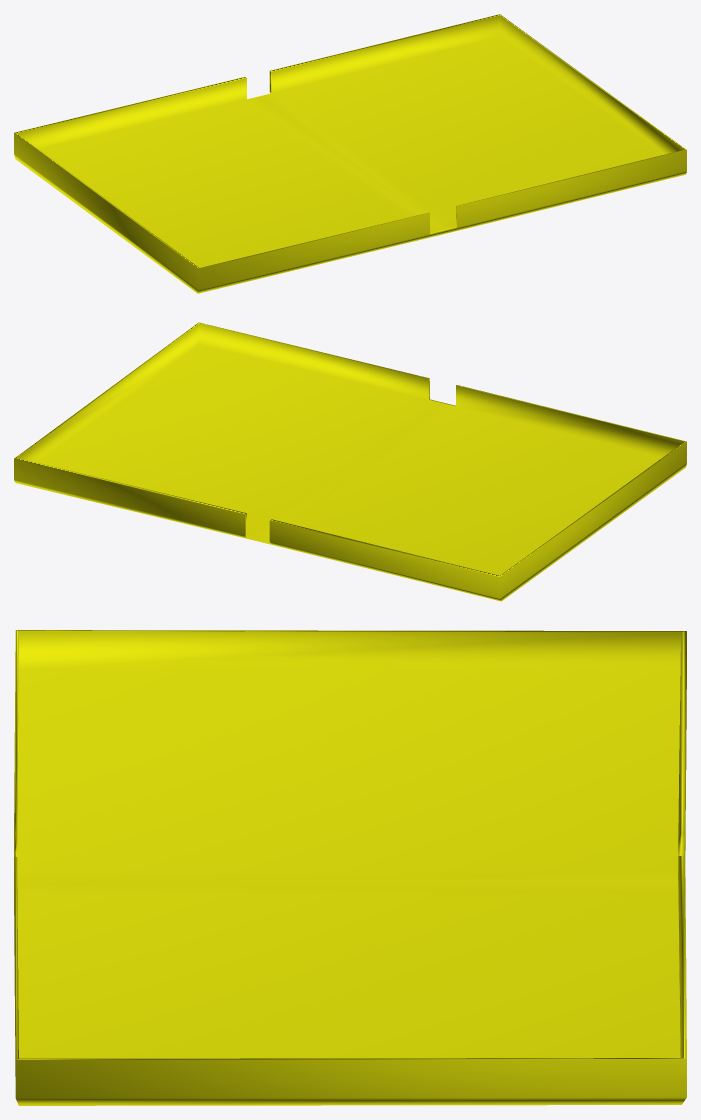
The model's file is mdl_Corredor_Soporte_grande.fbx.
3 views of the same model, one above another, from view 1: azimuth 30°, elevation 25°; view 2: azimuth 150°, elevation 25°; view 3: azimuth 270°, elevation 25° (orthographic). The views are drawn at different scales.
Visible parts, largest first — view 1: mdl_Corredor_Soporte_grande; view 2: mdl_Corredor_Soporte_grande; view 3: mdl_Corredor_Soporte_grande.
Boxes of the visible parts, x1,y1,x2,y2 form: mdl_Corredor_Soporte_grande: (14, 14, 686, 293); mdl_Corredor_Soporte_grande: (14, 322, 686, 601); mdl_Corredor_Soporte_grande: (14, 630, 686, 1105).
Bounding box in the file's own units: 40.25 × 1.99 × 26.61.
